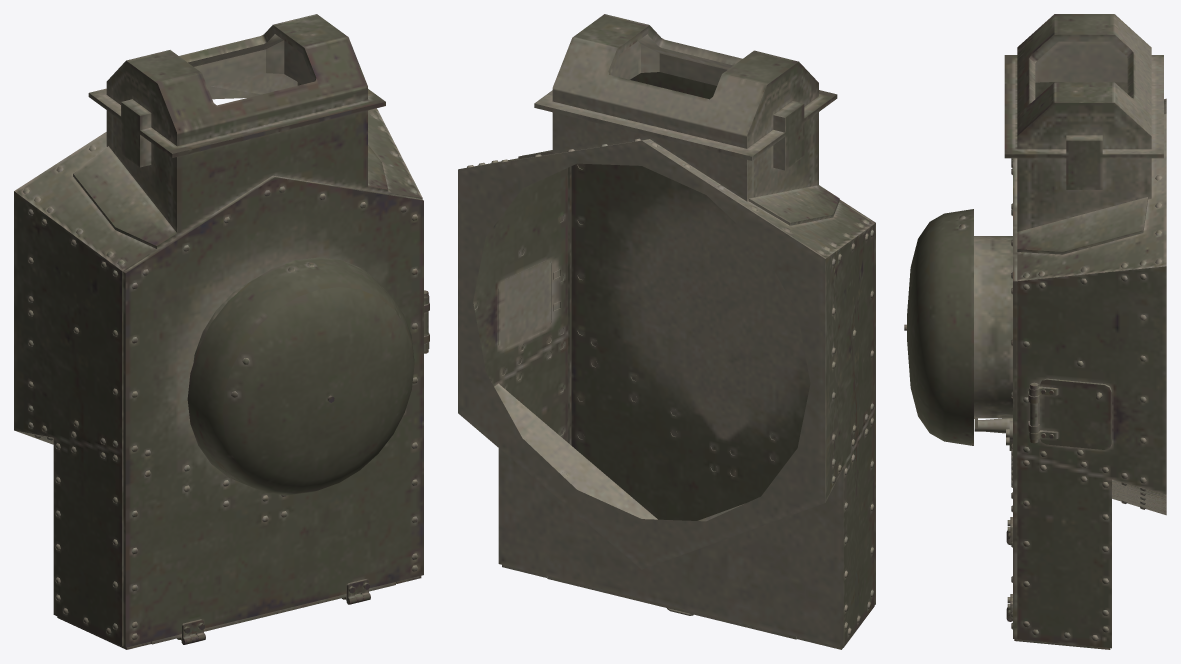
File: Turret_02.glb
3 views of the same model, side by side, from view 1: azimuth 30°, elevation 25°; view 2: azimuth 150°, elevation 25°; view 3: azimuth 270°, elevation 25° (orthographic). The views are drawn at different scales.
Parts seen in each view (by area): view 1: set_0_group_0; view 2: set_0_group_0; view 3: set_0_group_0.
Part boxes in pixels (left/top/right/bottom): set_0_group_0: left=14, top=14, right=429, bottom=649; set_0_group_0: left=458, top=14, right=875, bottom=649; set_0_group_0: left=904, top=14, right=1166, bottom=649.
Size of the model in its own units: 1.1 by 1.61 by 0.7293.
Materials: 1 (1 with a texture image).
